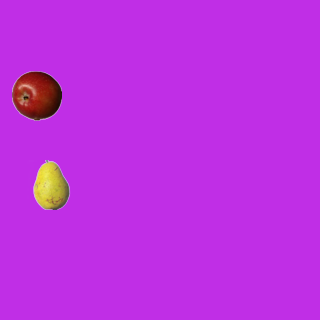Apple Braeburn: (11, 70, 61, 120)
Pear Monster: (26, 159, 76, 209)
